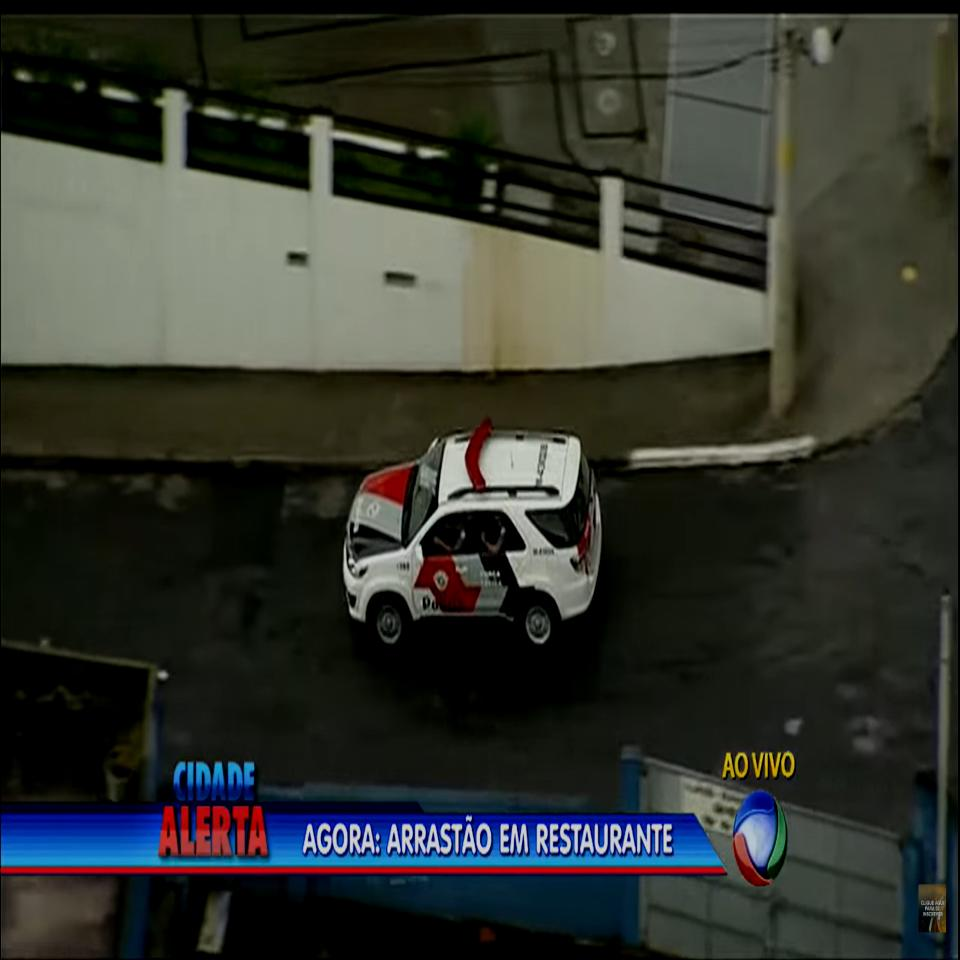viatura: (344, 413, 606, 655)
